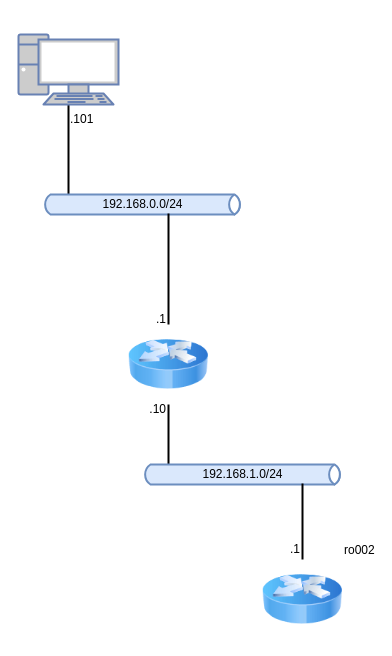
This 392x656 diagram has some shape labels left out. The centre of each missing label's shape, as x and y in pixels:
pc001: (68,69)
ro001: (168,364)
